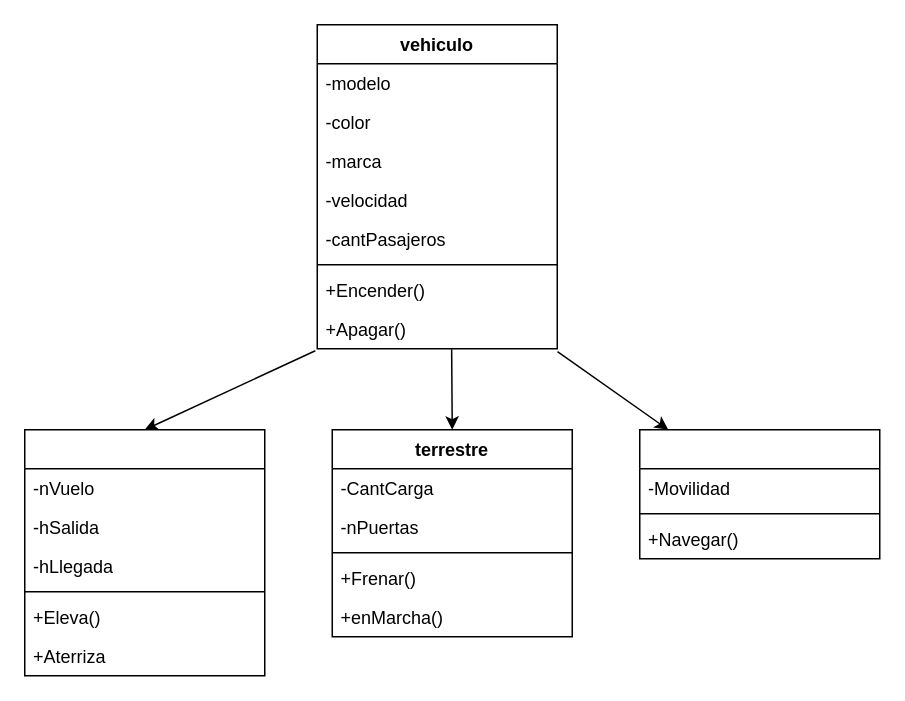
The diagram is 905 pixels wide and 701 high, and some of its shapes have lost their labels. Each missing label, with the box of its shape:
aereo: (23, 428, 265, 676)
marino: (638, 428, 880, 559)
